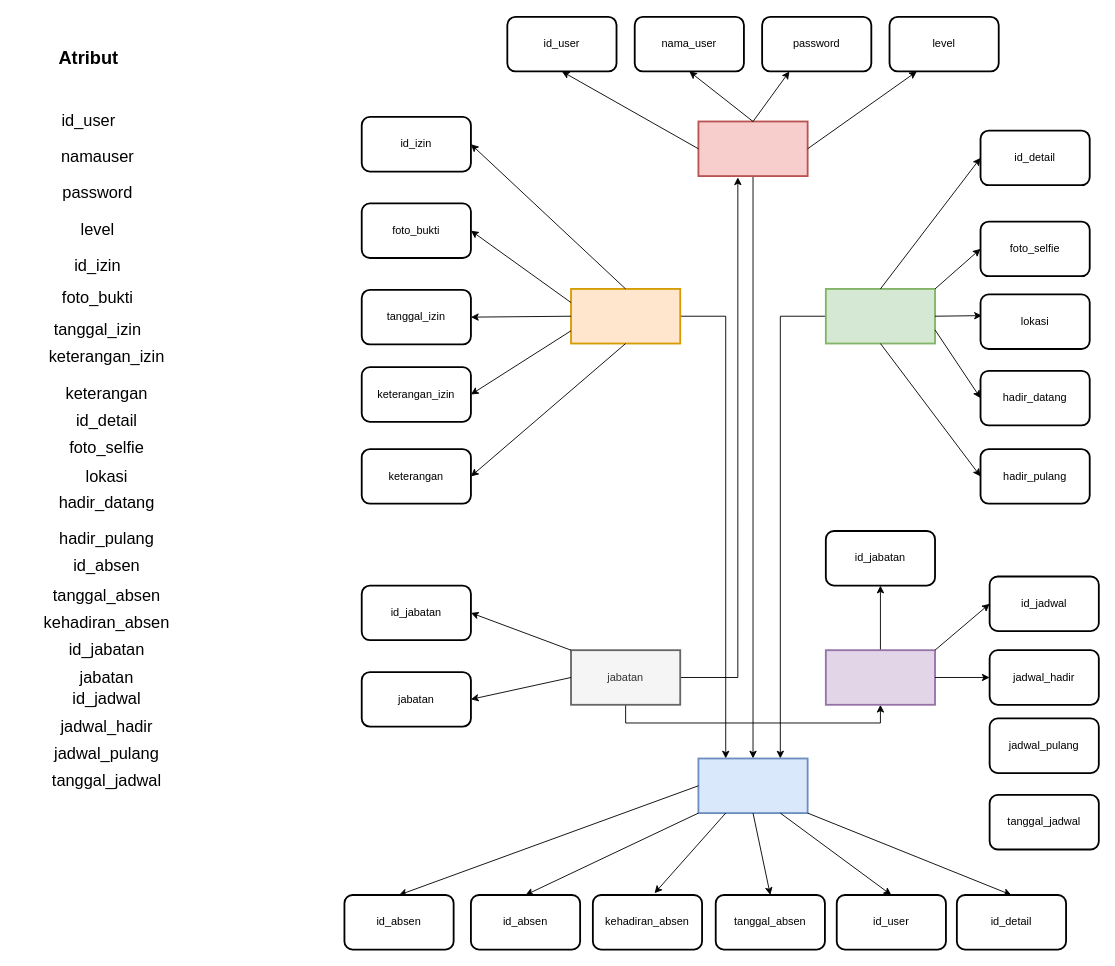
This 1115x966 diagram has some shape labels left out. Each missing label, with the box of its shape:
absensi: (697, 757, 808, 814)
detail: (824, 288, 935, 344)
Izin: (570, 288, 681, 344)
jadwal: (824, 649, 935, 705)
user: (697, 120, 808, 177)
